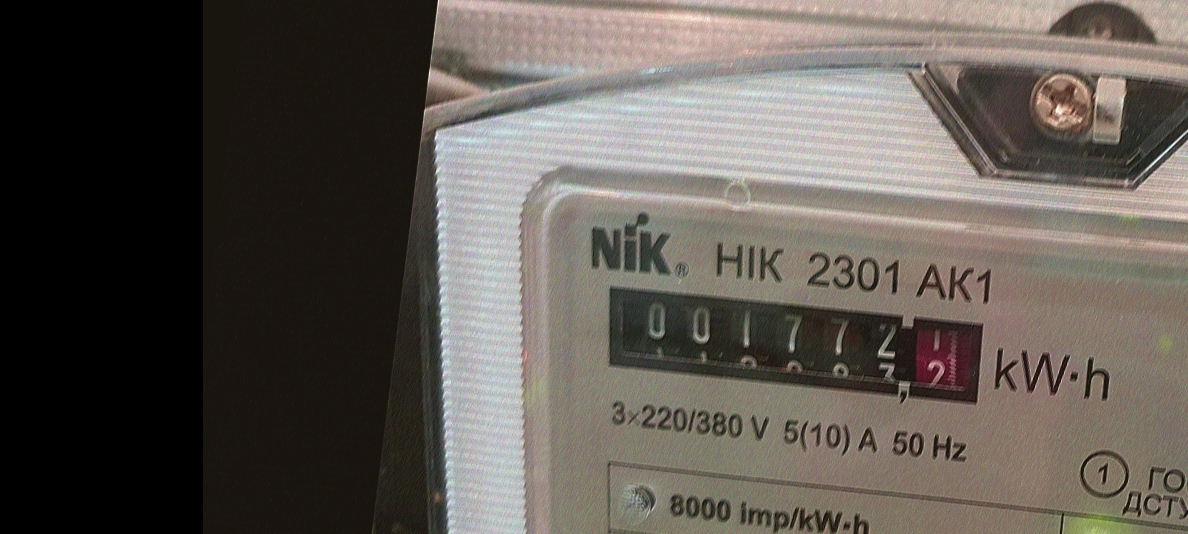0: (642, 297, 674, 340), (689, 302, 717, 344)
1: (738, 307, 759, 347), (930, 326, 946, 353)
2: (875, 321, 902, 360), (923, 356, 949, 387)
3: (877, 359, 901, 383)
7: (780, 311, 807, 354), (827, 315, 853, 356)
screen: (589, 265, 1007, 423)
